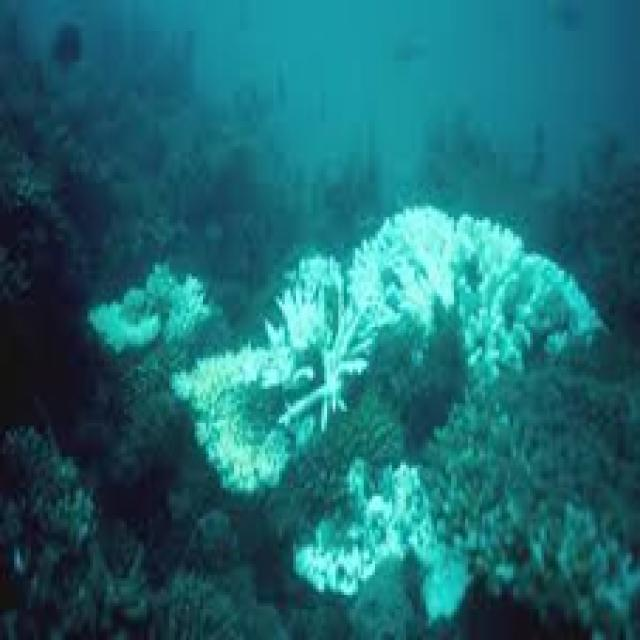Bleached: (181, 349, 296, 496), (298, 470, 431, 594), (347, 208, 459, 333), (448, 215, 528, 388), (277, 309, 378, 431), (260, 262, 353, 390), (520, 257, 599, 361), (128, 269, 207, 339), (91, 305, 160, 353)
